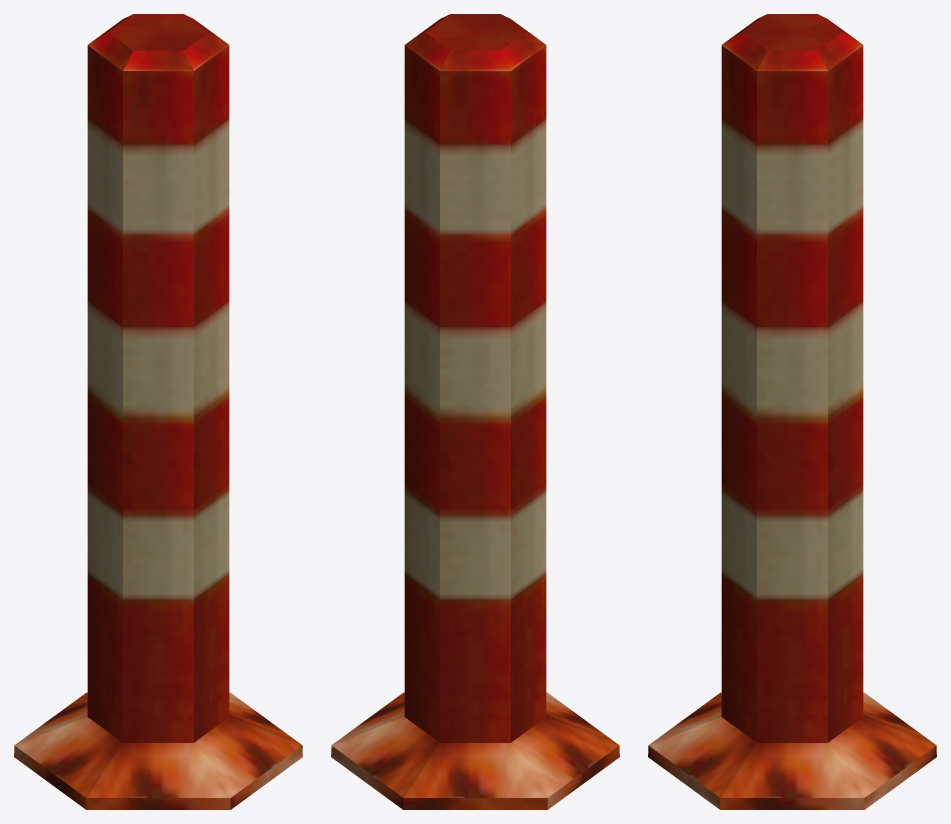
Rendered from Urban_SimpleBollardShort_Model.fbx.
The picture shows the model from 3 angles, left to right: view 1: azimuth 30°, elevation 25°; view 2: azimuth 150°, elevation 25°; view 3: azimuth 270°, elevation 25°; orthographic projection.
Parts seen in each view (by area): view 1: Urban_SimpleBollardShort_Mesh; view 2: Urban_SimpleBollardShort_Mesh; view 3: Urban_SimpleBollardShort_Mesh.
Part boxes in pixels (x1,y1,x2,y2): Urban_SimpleBollardShort_Mesh: [14, 14, 302, 809]; Urban_SimpleBollardShort_Mesh: [331, 14, 619, 809]; Urban_SimpleBollardShort_Mesh: [648, 14, 936, 809].
Size of the model in its own units: 0.2326 by 0.7435 by 0.2685.
